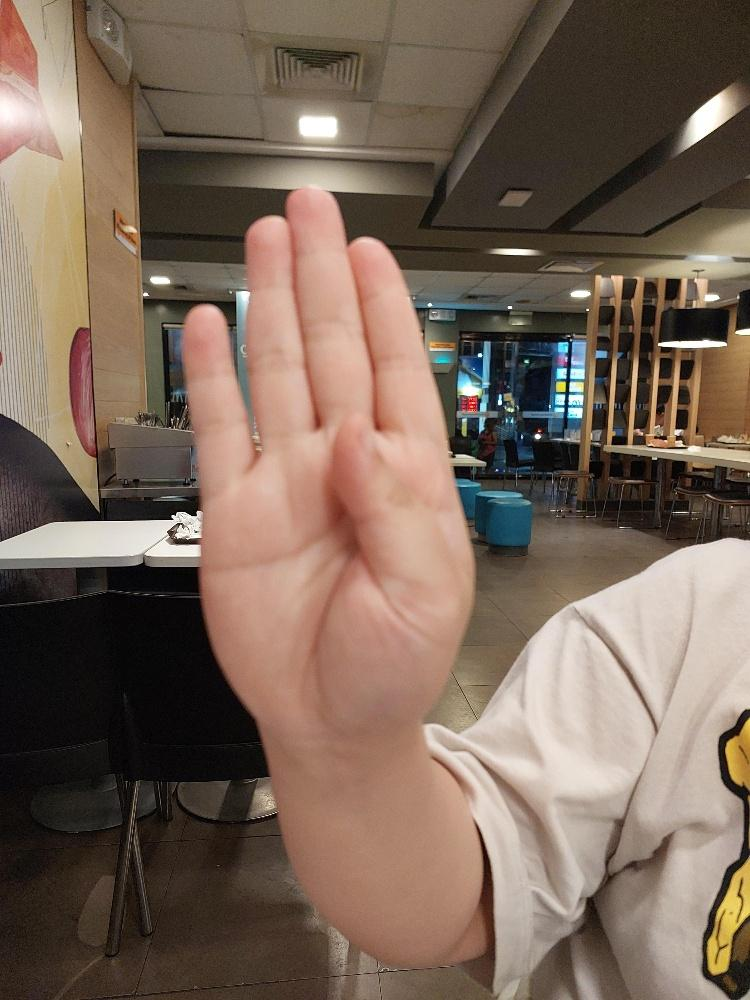b: (178, 180, 480, 747)
